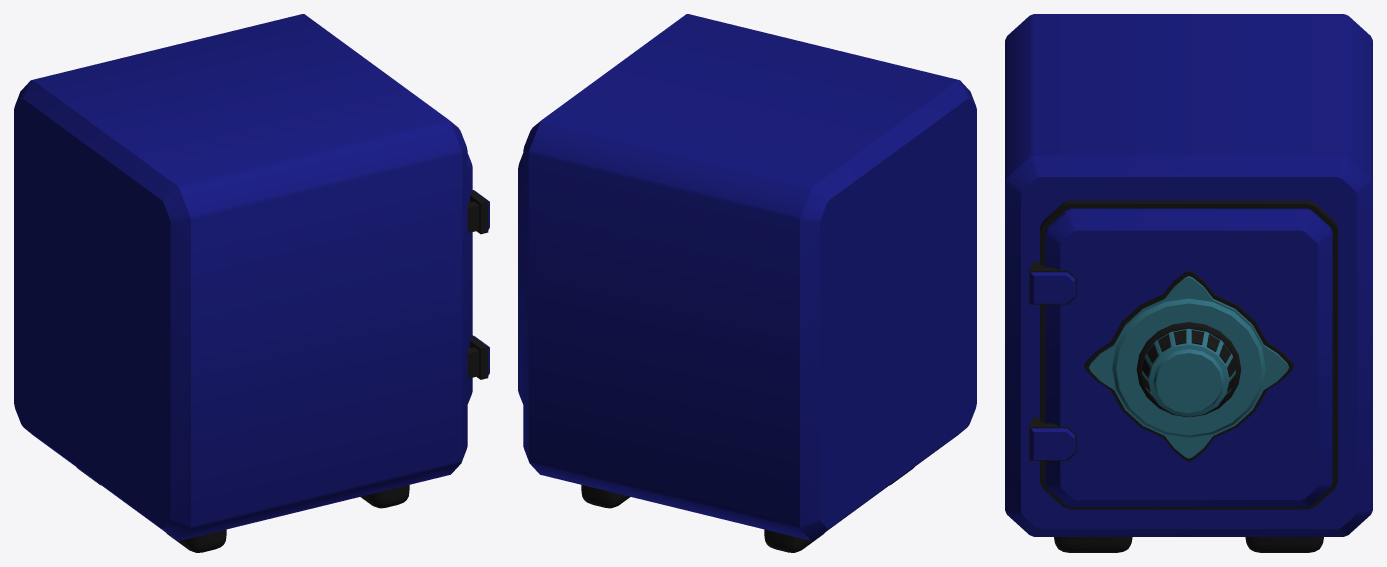
Rendered from SafeBox.fbx.
The picture shows the model from 3 angles, left to right: view 1: azimuth 30°, elevation 25°; view 2: azimuth 150°, elevation 25°; view 3: azimuth 270°, elevation 25°; orthographic projection. The views are drawn at different scales.
Parts seen in each view (by area): view 1: body_1, body_2; view 2: body_1, body_2; view 3: body_1, body_2, rrr.
Part boxes in pixels (x1=…): body_1: x1=14, y1=14, x2=479, y2=552; body_2: x1=467, y1=153, x2=489, y2=403; body_1: x1=523, y1=14, x2=976, y2=552; body_2: x1=518, y1=153, x2=523, y2=404; body_1: x1=1005, y1=14, x2=1372, y2=552; body_2: x1=1029, y1=208, x2=1332, y2=506; rrr: x1=1142, y1=328, x2=1235, y2=416.
Bounding box in the file's own units: 83.41 × 87.12 × 70.
